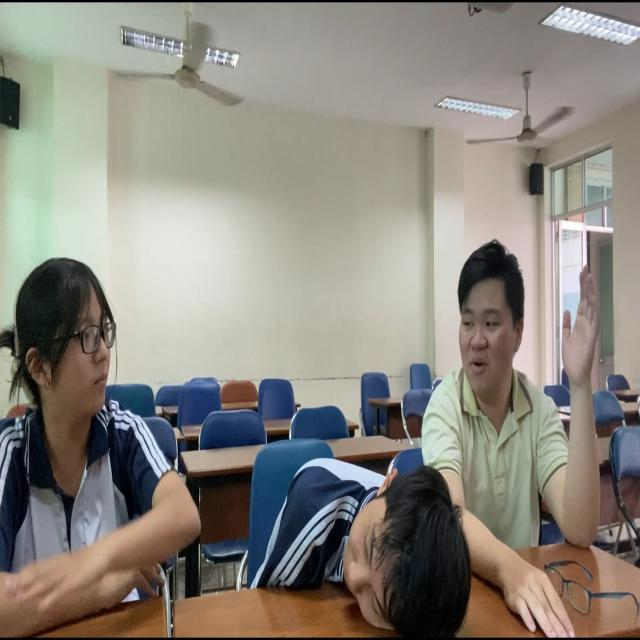raise_hand: (419, 203, 626, 640)
sleep: (257, 442, 480, 640)
